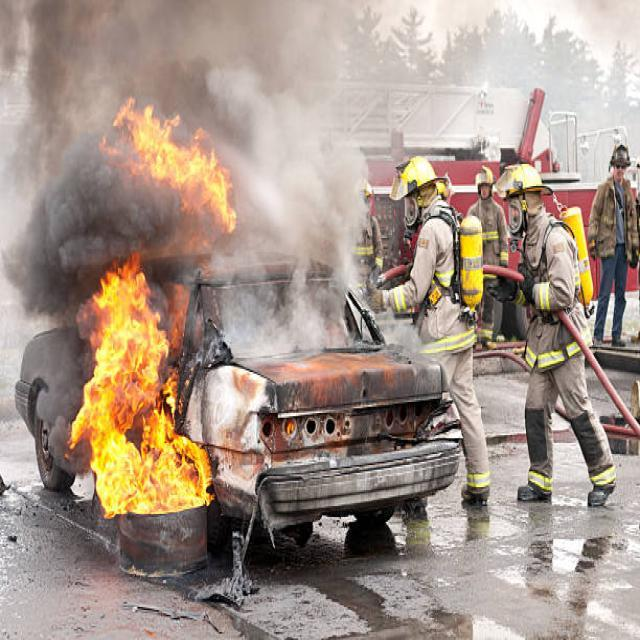Fire: (66, 263, 208, 513), (99, 98, 237, 234)
Smoke: (0, 0, 367, 381)
